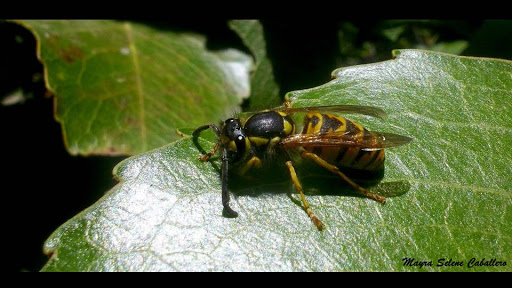chax: (185, 95, 423, 229)
